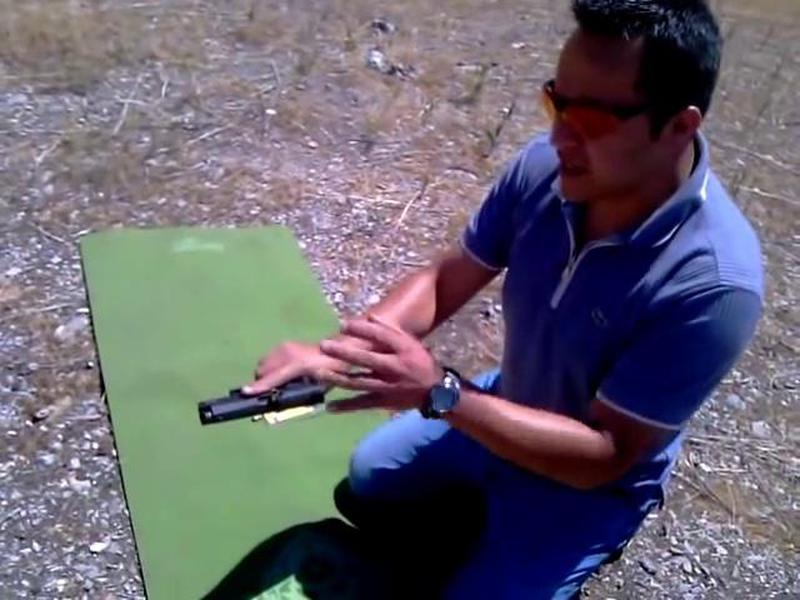Pistola: (168, 344, 355, 453)
